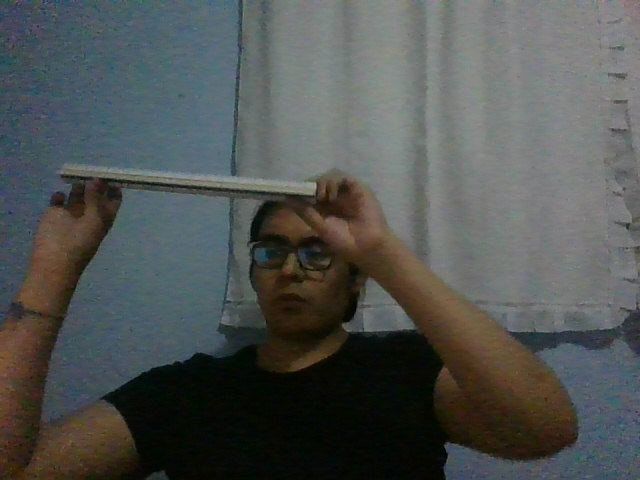regla: (56, 163, 317, 204)
